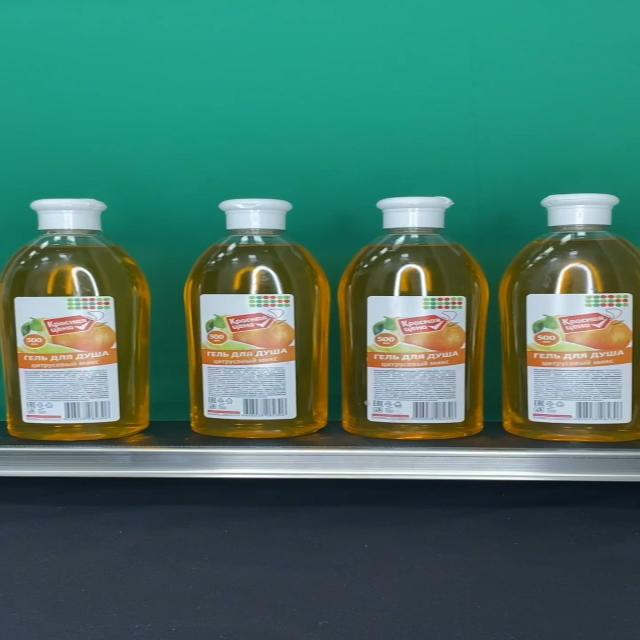Bottle: (0, 198, 152, 440), (340, 196, 488, 440), (185, 198, 330, 437), (501, 194, 640, 442)
Cap: (375, 195, 455, 229), (30, 198, 109, 232), (540, 194, 620, 226), (218, 198, 292, 230)
